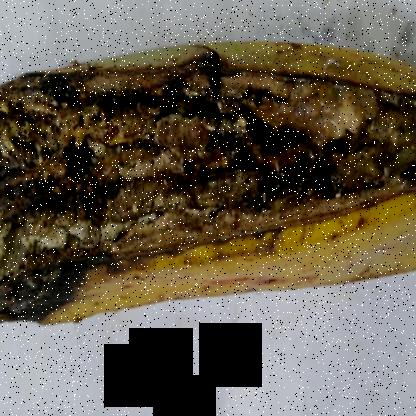rotten: (0, 22, 415, 363)
